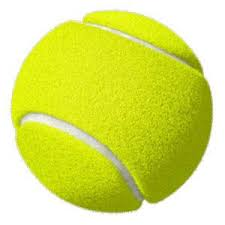tennis ball: (10, 8, 213, 218)
